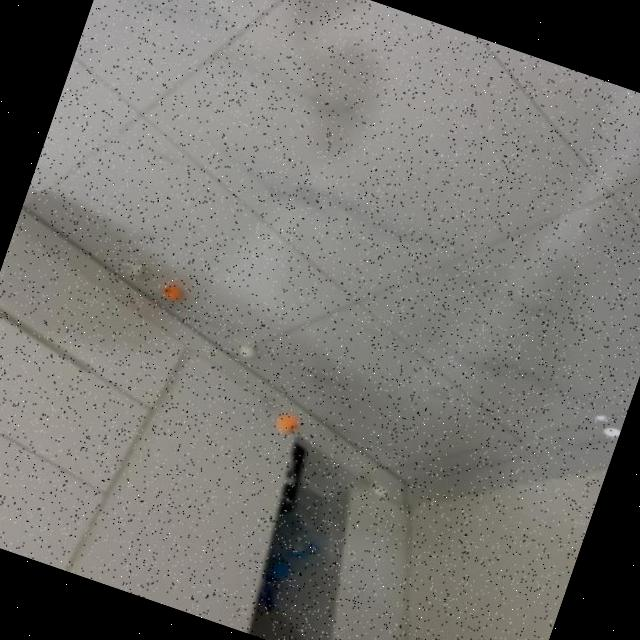ping-pong-ball: (268, 407, 300, 439), (120, 257, 148, 278), (159, 282, 183, 304), (366, 479, 391, 499), (234, 342, 255, 358)
